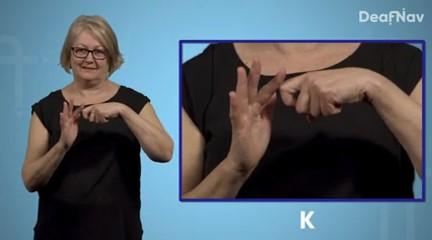K: (225, 56, 372, 166), (54, 94, 122, 147)
